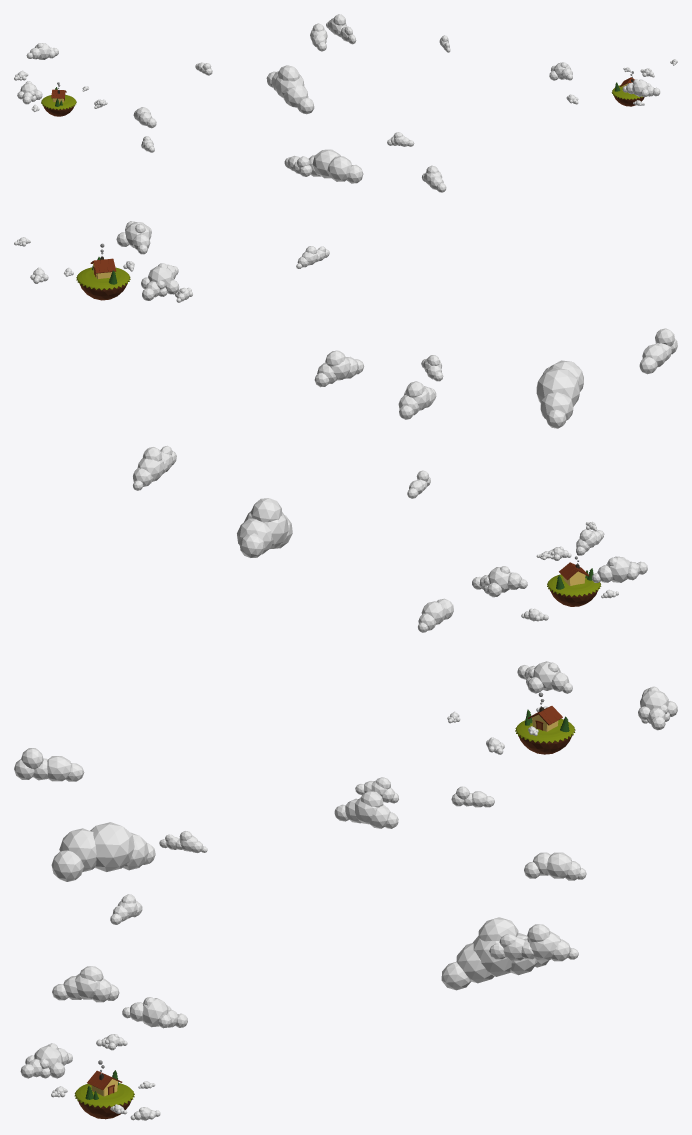
File: небо.fbx
3 views of the same model, one above another, from view 1: azimuth 30°, elevation 25°; view 2: azimuth 150°, elevation 25°; view 3: azimuth 270°, elevation 25° (orthographic). The views are drawn at different scales.
Visible parts, largest first — view 1: Cube_4, Cloud_2_2, Cloud_1_1, Cloud_3_3, Cloud_4_4; view 2: Cube_4, Cloud_2_2, Cloud_1_1, Cloud_3_3, Cloud_4_4; view 3: Cube_4, Cloud_2_2, Cloud_1_1, Cloud_3_3, Cloud_4_4.
Part boxes in pixels (x1,y1,x2,y2): Cube_4: (14, 43, 677, 116); Cloud_2_2: (141, 23, 446, 192); Cloud_1_1: (133, 107, 363, 183); Cloud_3_3: (326, 14, 450, 52); Cloud_4_4: (195, 62, 312, 176); Cube_4: (14, 221, 647, 621); Cloud_2_2: (237, 350, 604, 557); Cloud_1_1: (418, 360, 583, 632); Cloud_3_3: (133, 246, 329, 490); Cloud_4_4: (407, 328, 677, 498); Cube_4: (20, 661, 677, 1120); Cloud_2_2: (52, 777, 548, 1002); Cloud_1_1: (51, 822, 586, 881); Cloud_3_3: (159, 831, 578, 961); Cloud_4_4: (14, 748, 494, 807).
Bounding box in the file's own units: 33197 × 7252 × 21191.
